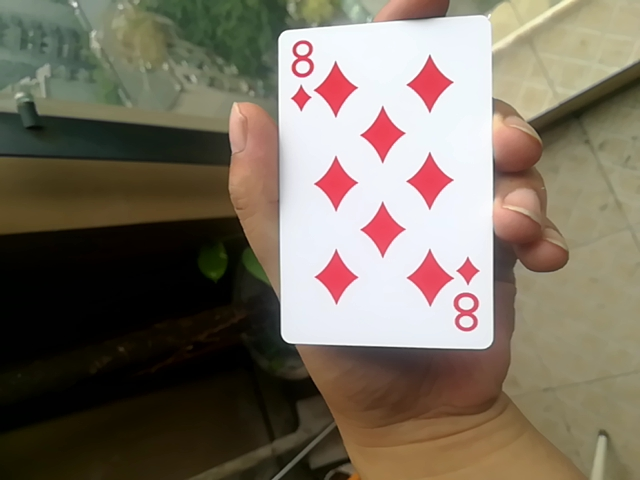fk 8: (272, 9, 498, 357)
